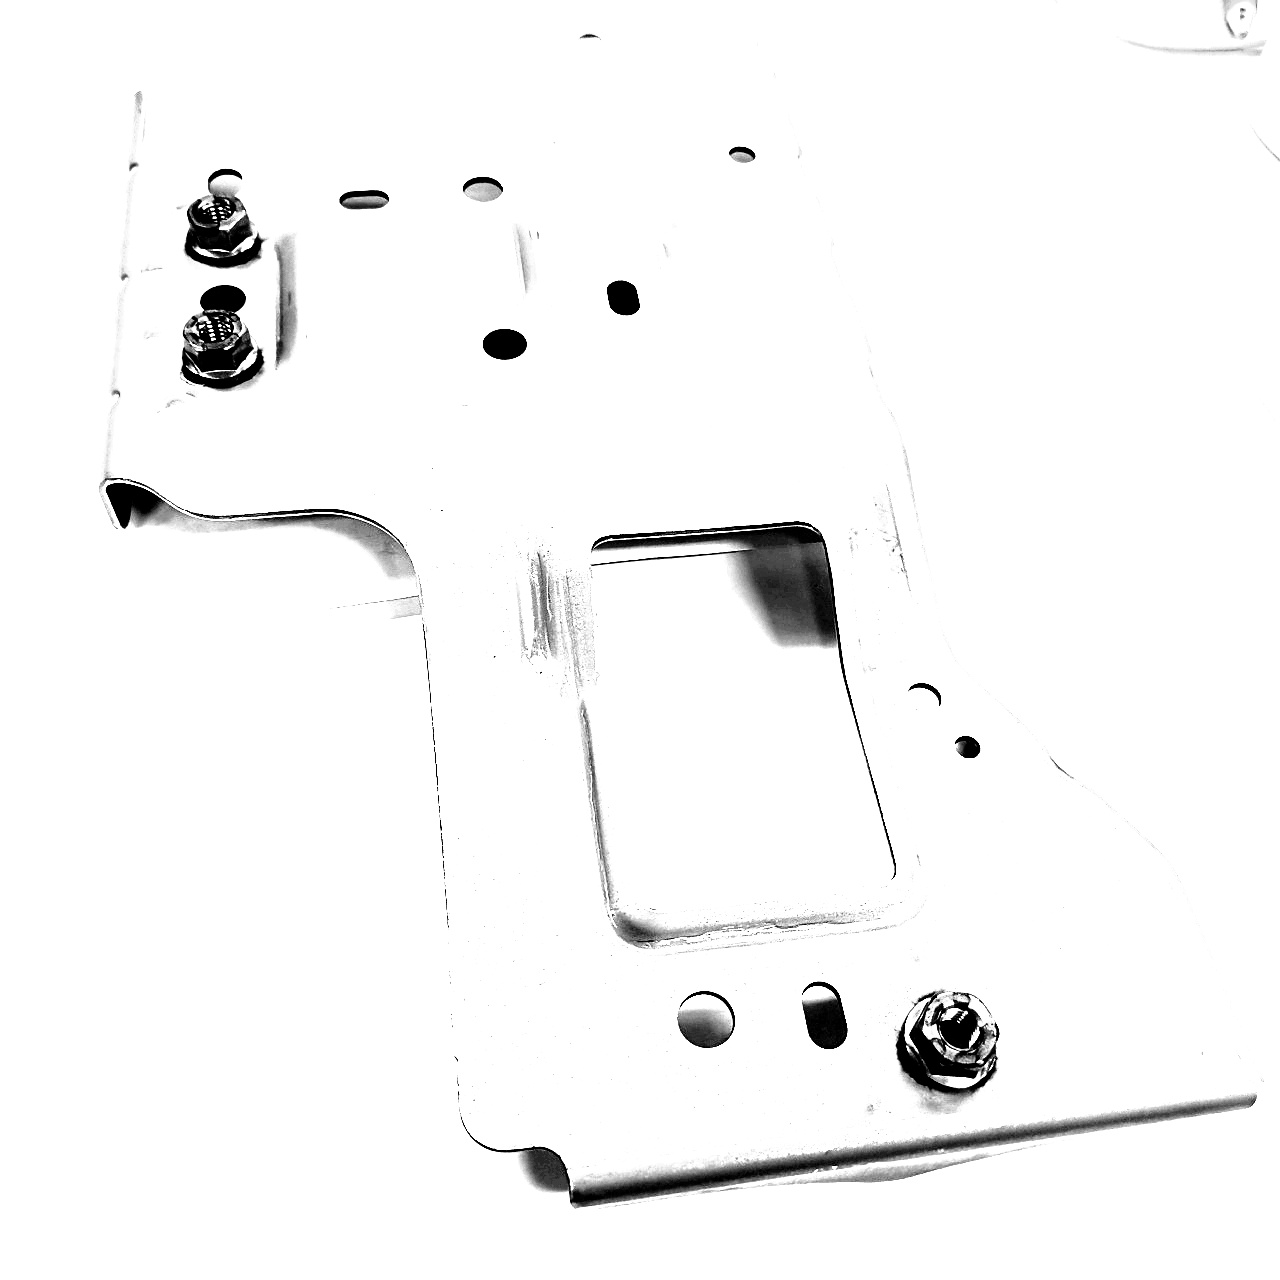dog: (896, 982, 1002, 1099), (176, 304, 264, 394), (178, 192, 266, 270)
